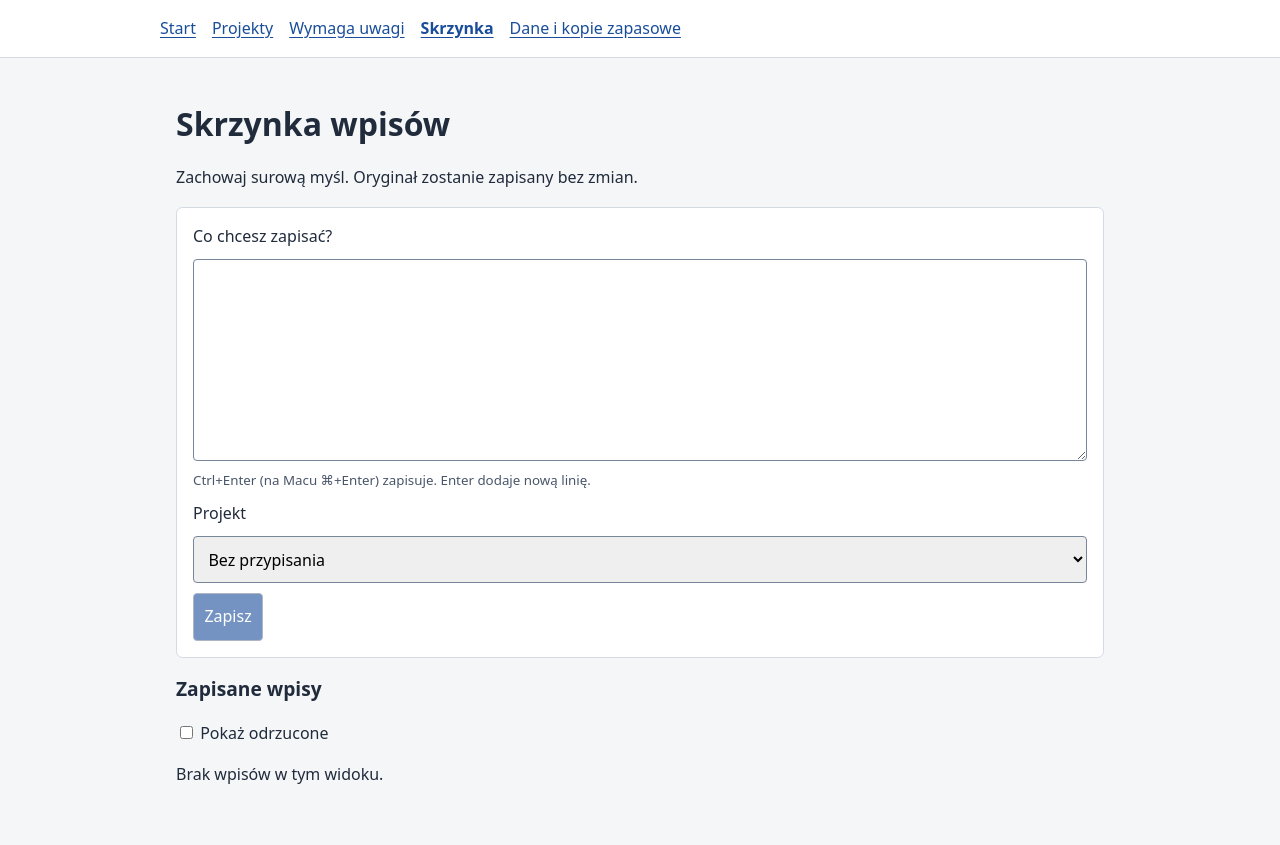
Szybki Inbox › dołącza zapisany wpis do istniejącego projektu
Type "Obserwacja" into the text box labelled "Co chcesz zapisać?". click: point(640, 360)
box: [193,259,1087,461]
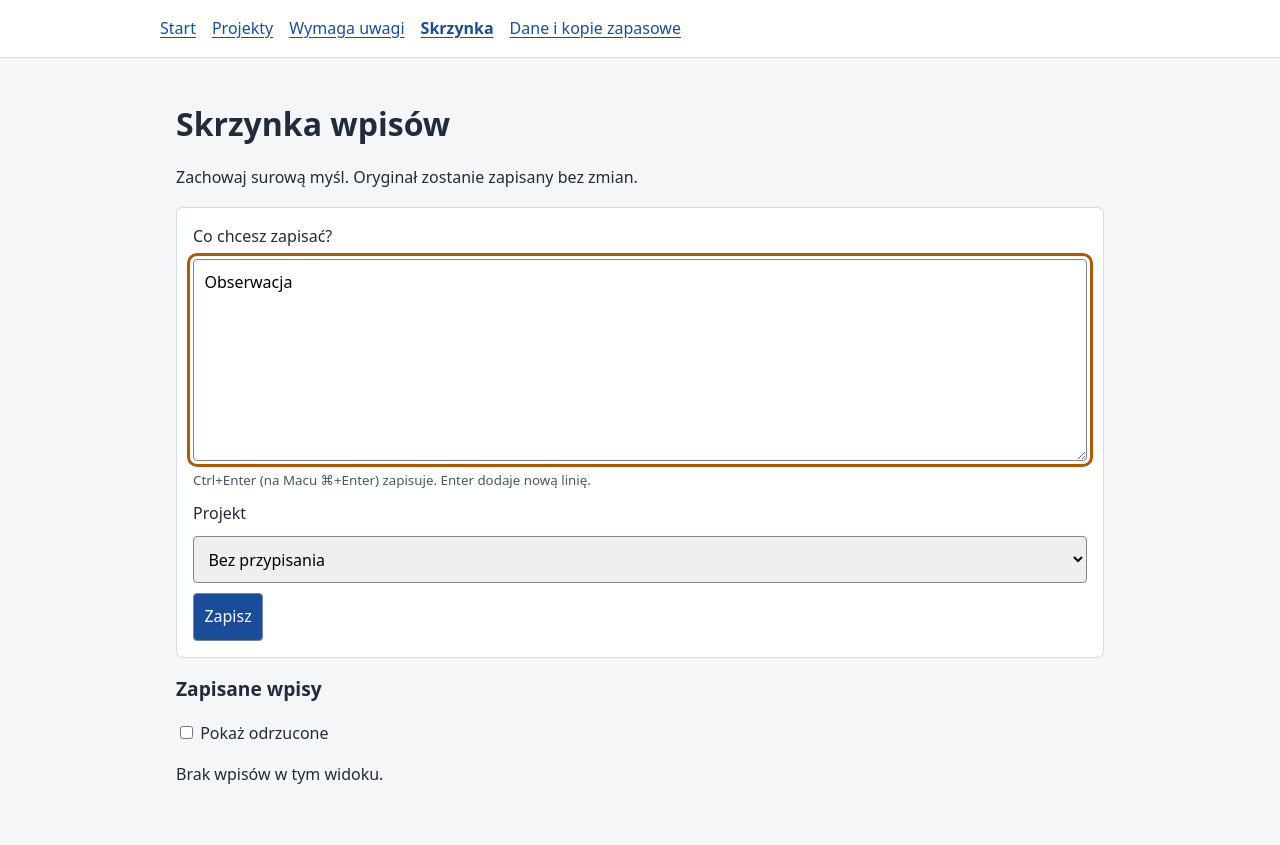
Click the button "Zapisz". click: point(228, 617)
box: [193,593,263,641]
(page scrolled)
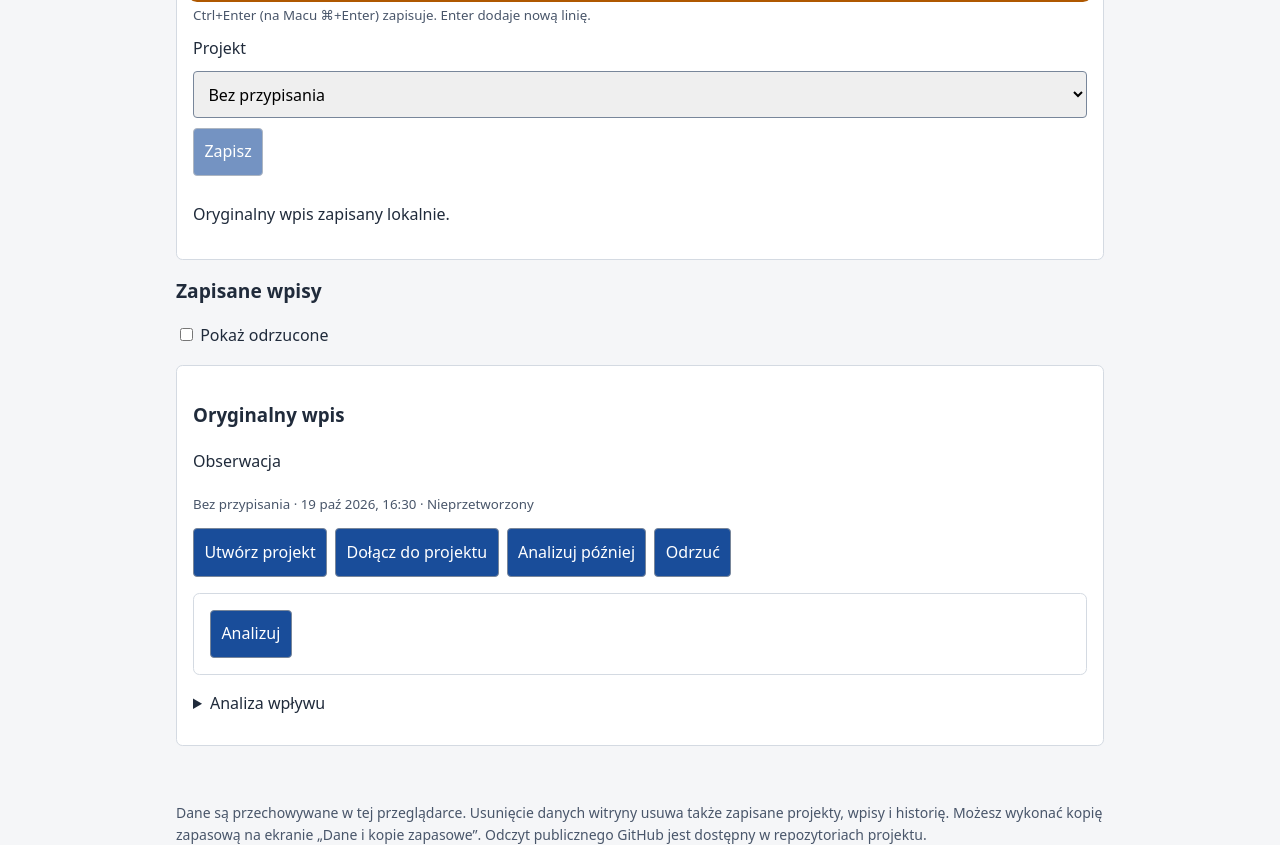
Click the button "Dołącz do projektu". click: point(417, 552)
box: [335,528,499,577]
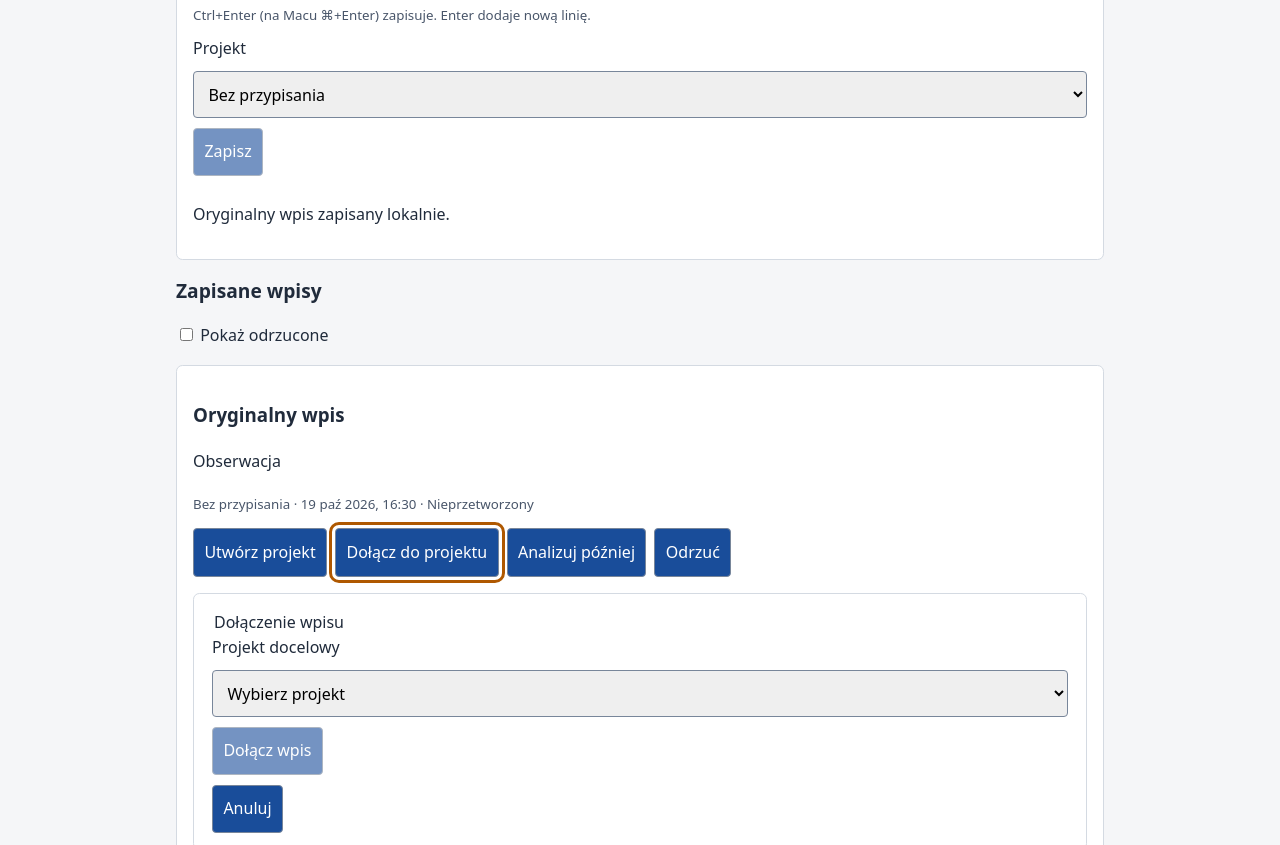
Select "Istniejący" in the dropdown labelled "Projekt docelowy". click: point(640, 694)
box: [212,670,1068,717]
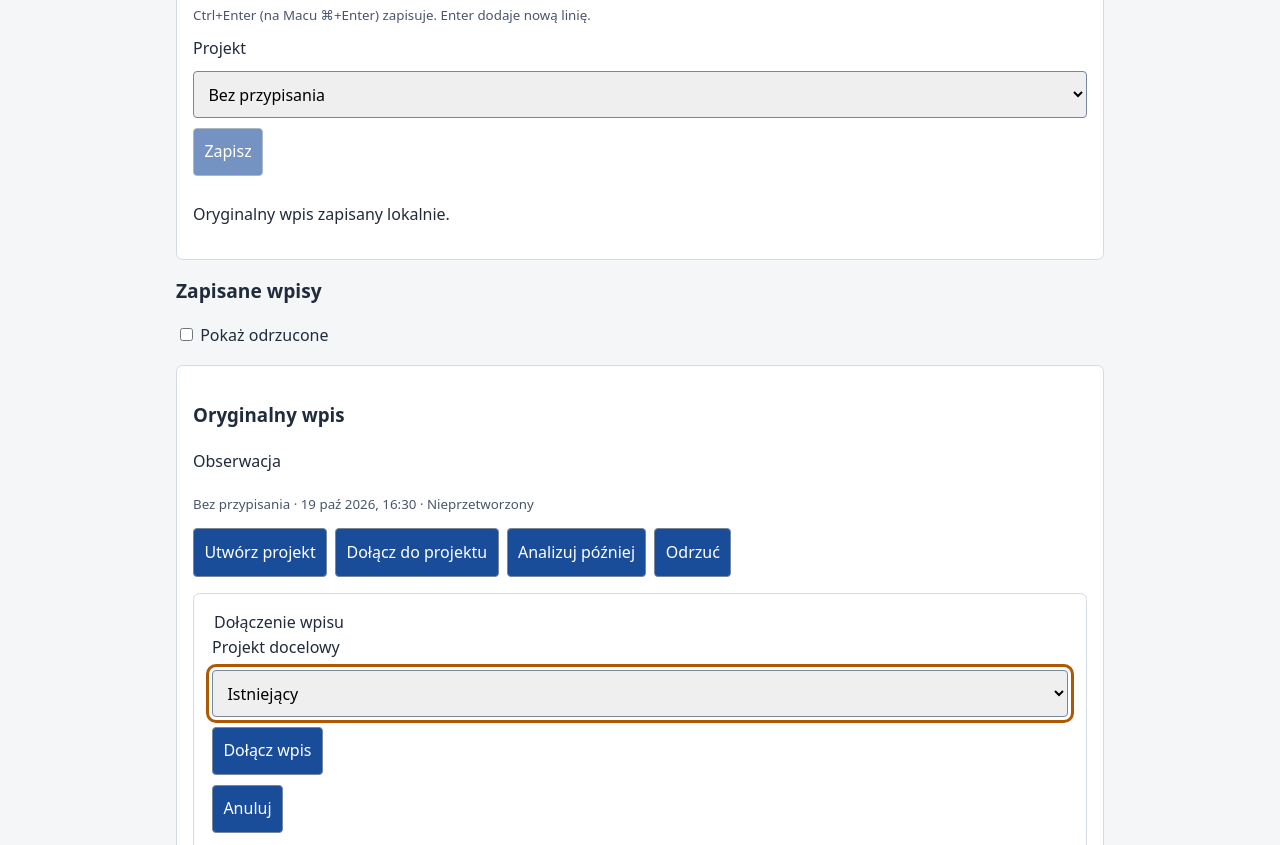
Click the button "Dołącz wpis". click: point(267, 751)
box: [212,727,323,775]
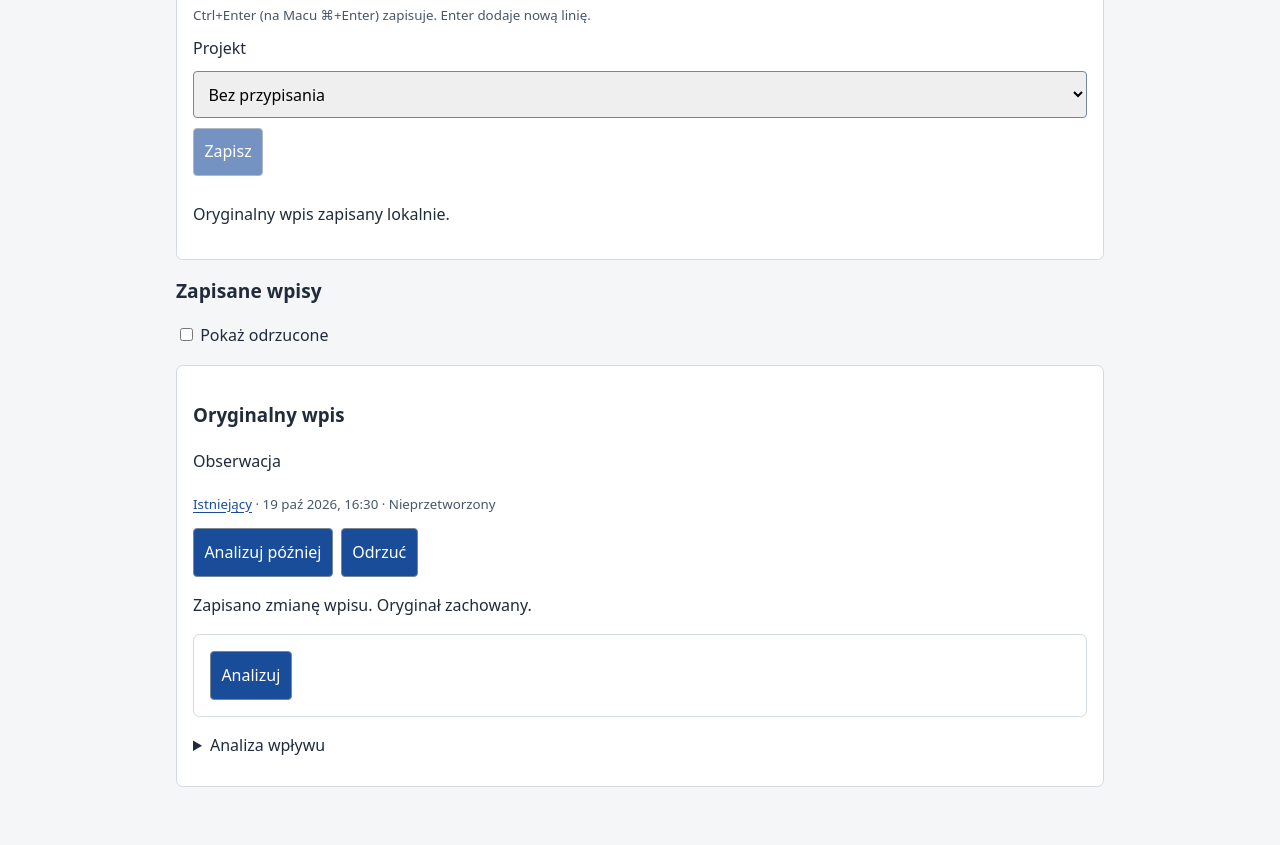
Expected: the link "Istniejący" is shown, [193,495,252,513]
Expected: the button "Utwórz projekt" is gone
